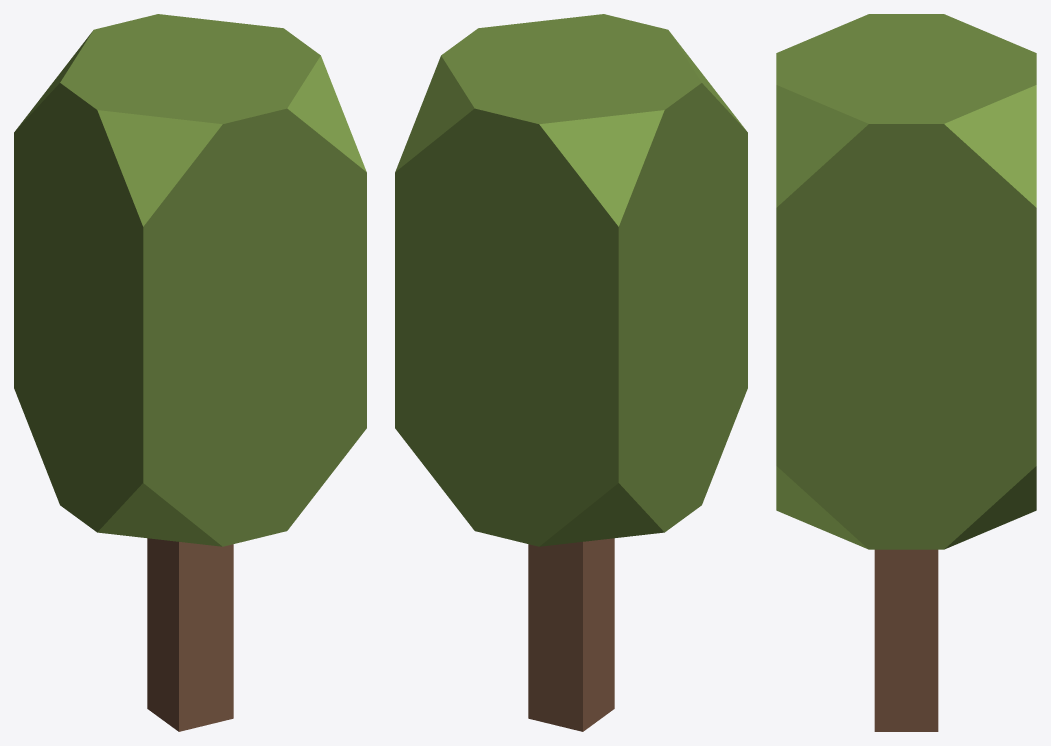
File: voxel_tree_4.fbx
3 views of the same model, side by side, from view 1: azimuth 30°, elevation 25°; view 2: azimuth 150°, elevation 25°; view 3: azimuth 270°, elevation 25° (orthographic).
Parts seen in each view (by area): view 1: voxel_tree_4; view 2: voxel_tree_4; view 3: voxel_tree_4.
Boxes of the visible parts, x1,y1,x2,y2 form: voxel_tree_4: (14,14,366,731); voxel_tree_4: (395,14,747,731); voxel_tree_4: (776,14,1036,731).
Bounding box in the file's own units: 184 × 507 × 184.
